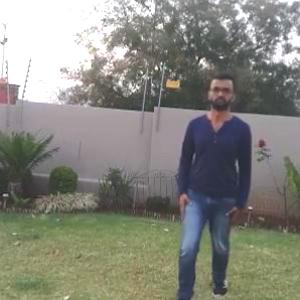follow: (179, 81, 247, 293)
